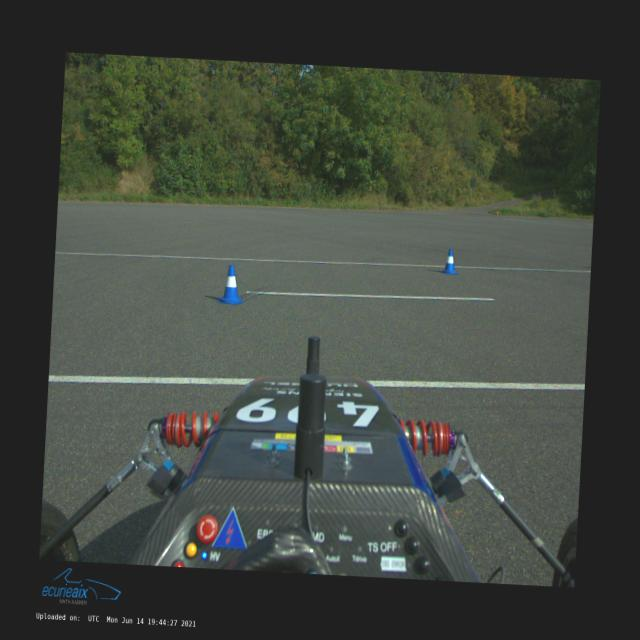blue_cone: (216, 264, 246, 306), (441, 248, 460, 274)
